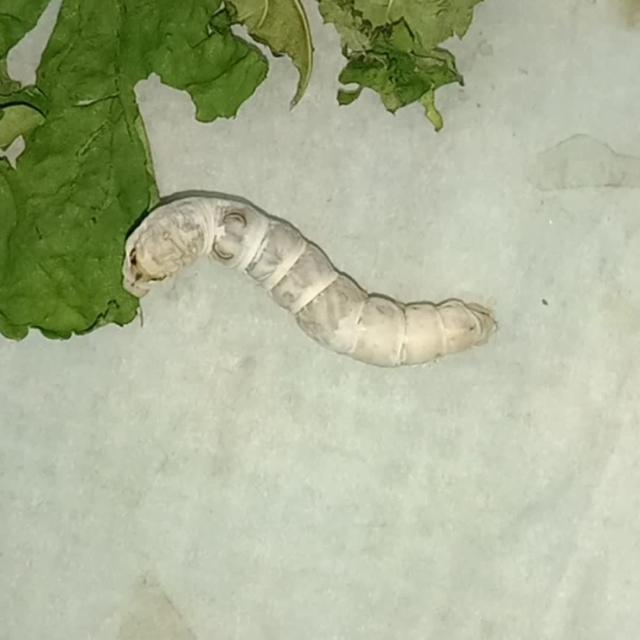Grasserie: (103, 160, 515, 390)
